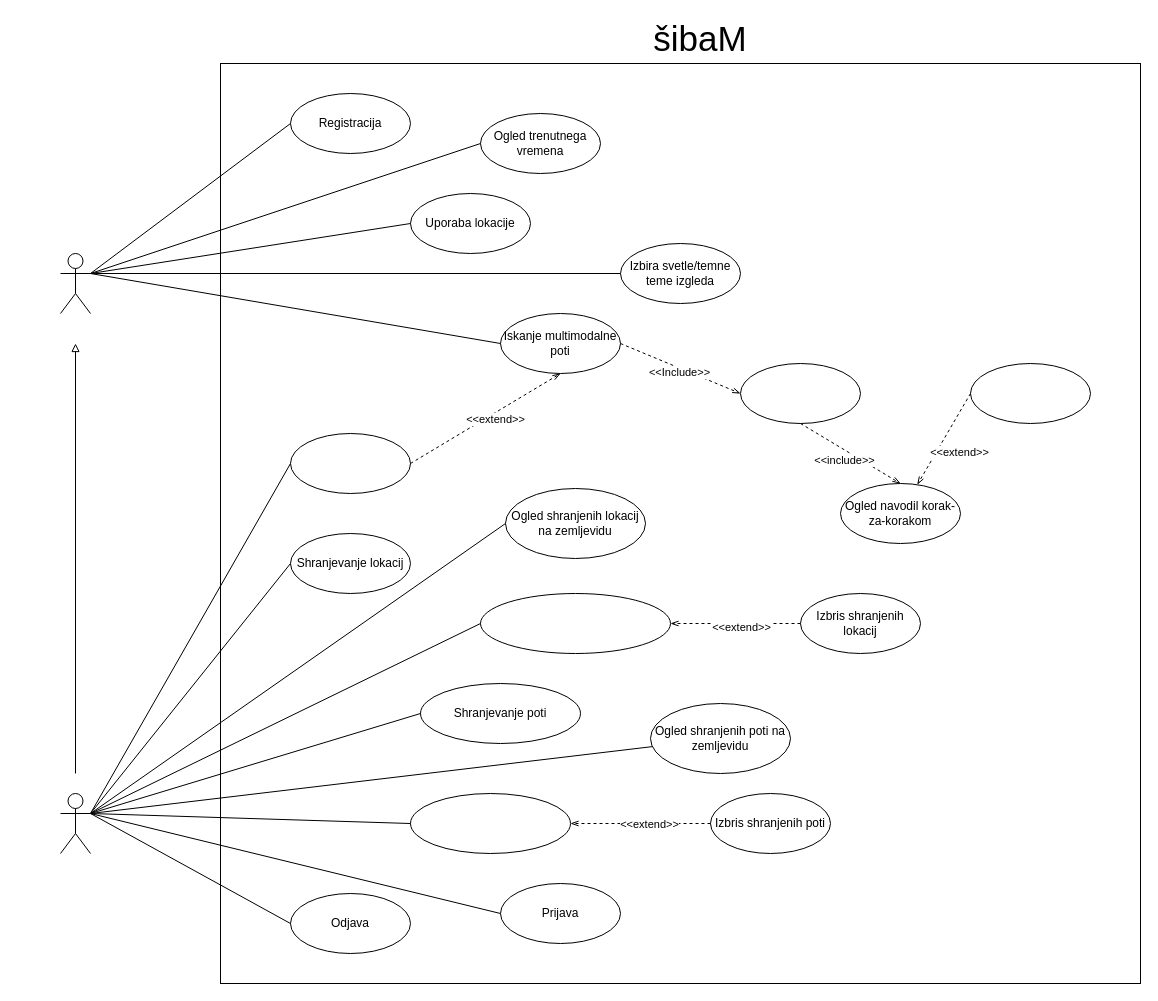
This 1158x1001 diagram has some shape labels left out. The shapes that lost their labels are listed below. From the top down, each one's centre as x and y in pixels, then its label:
point 75,283: Uporabnik
point 800,393: Ogled poti na zemljevidu
point 1030,393: Sledenje navodilom korak-za-korakom
point 350,463: Izbira shranjene lokacije
point 575,623: Ogled shranjenih lokacij v uporabniškem računu
point 75,823: Registrirani uporabnik
point 490,823: Ogled shranjenih poti v uporabniškem računu
